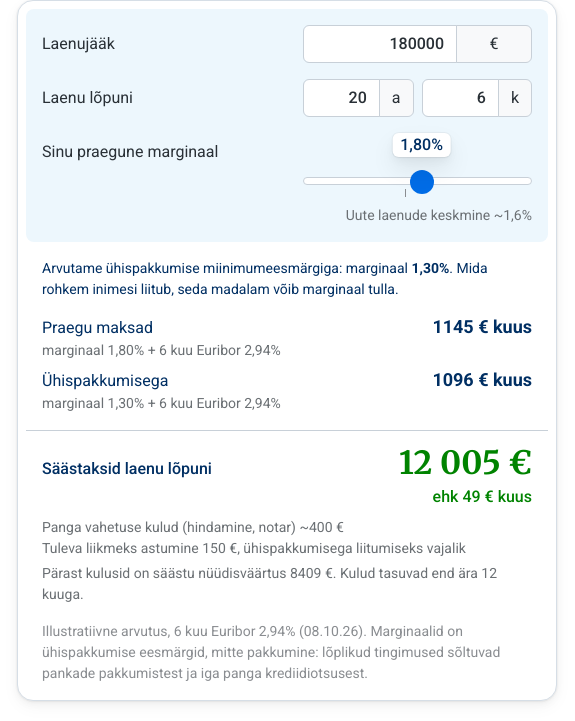
SavingsCalculator › explains when the minimum goal would not save anything
Set the slider labelled "Sinu praegune marginaal" to "0.9" at (345, 181), box [303,165,532,197]
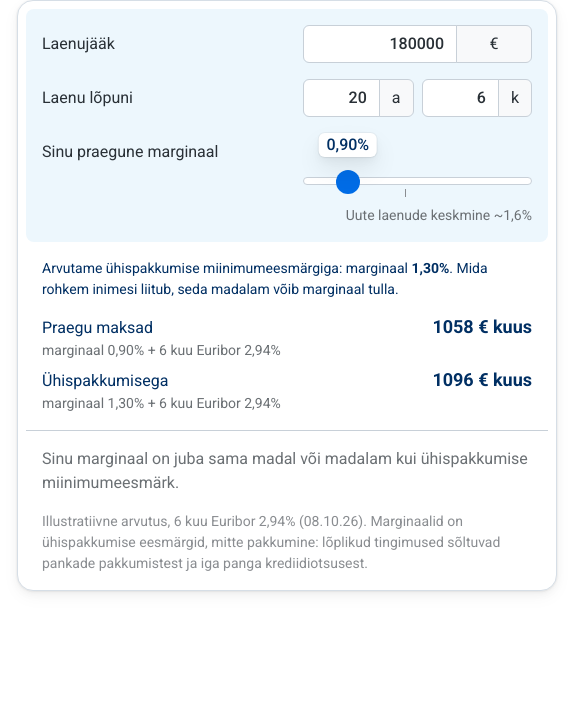
expect the text "juba sama madal või madalam" is shown: met, box [42,449,528,492]
